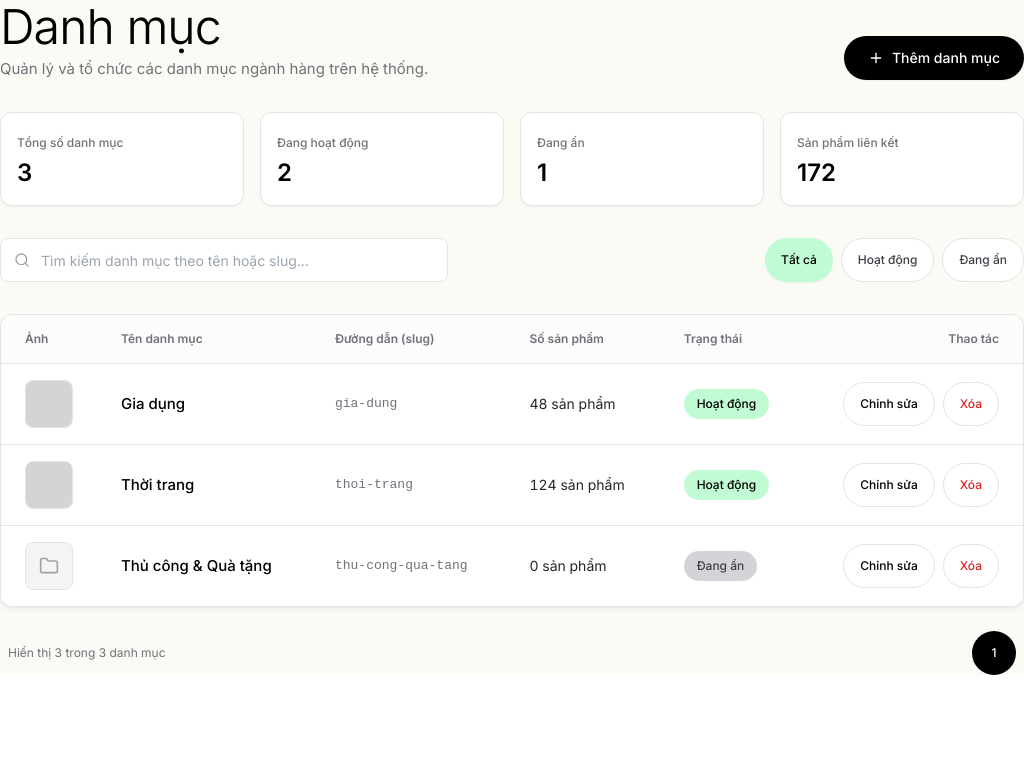
Test: AdminCategoryPage (Stitch Screen 1 & DESIGN.md) › opens drawer in edit mode on table row "Chỉnh sửa" click
Click the button "Chỉnh sửa" in the row of "Gia dụng" at (889, 404), box [843,382,935,426]
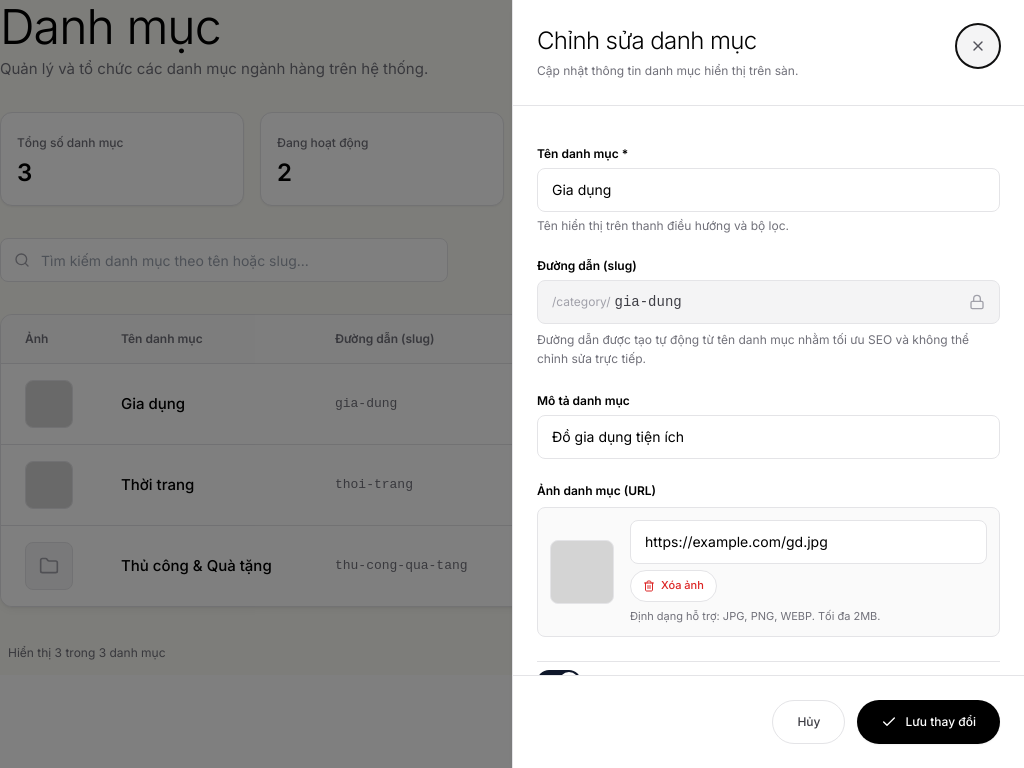
expect the dialog with test id "category-form-drawer" is shown: met, box [512,0,1023,767]
expect the heading "Chỉnh sửa danh mục" is shown: met, box [537,26,757,55]
expect the field showing "Gia dụng" is shown: met, box [537,168,1000,212]
